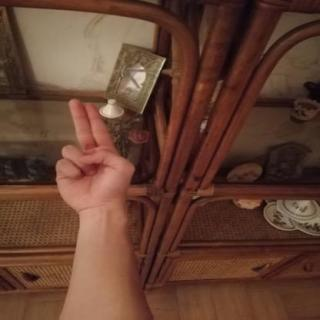TA: (41, 90, 148, 219)
